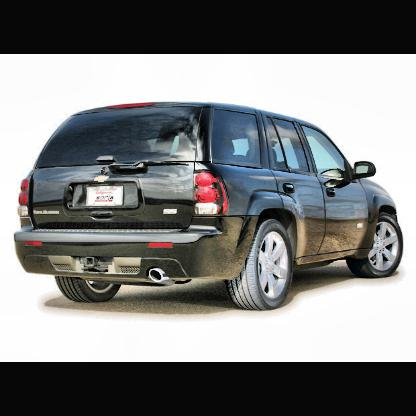Chevrolet TrailBlazer SS 2009: (14, 99, 407, 311)
